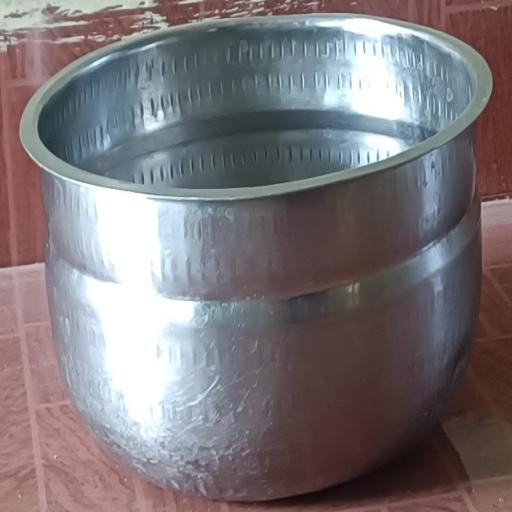vessel: (21, 16, 491, 500)
